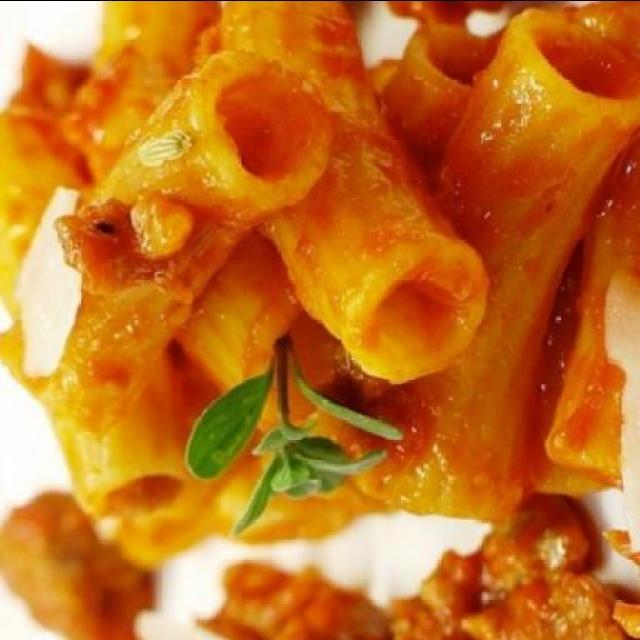Pasta al ragu: (26, 11, 634, 629)
